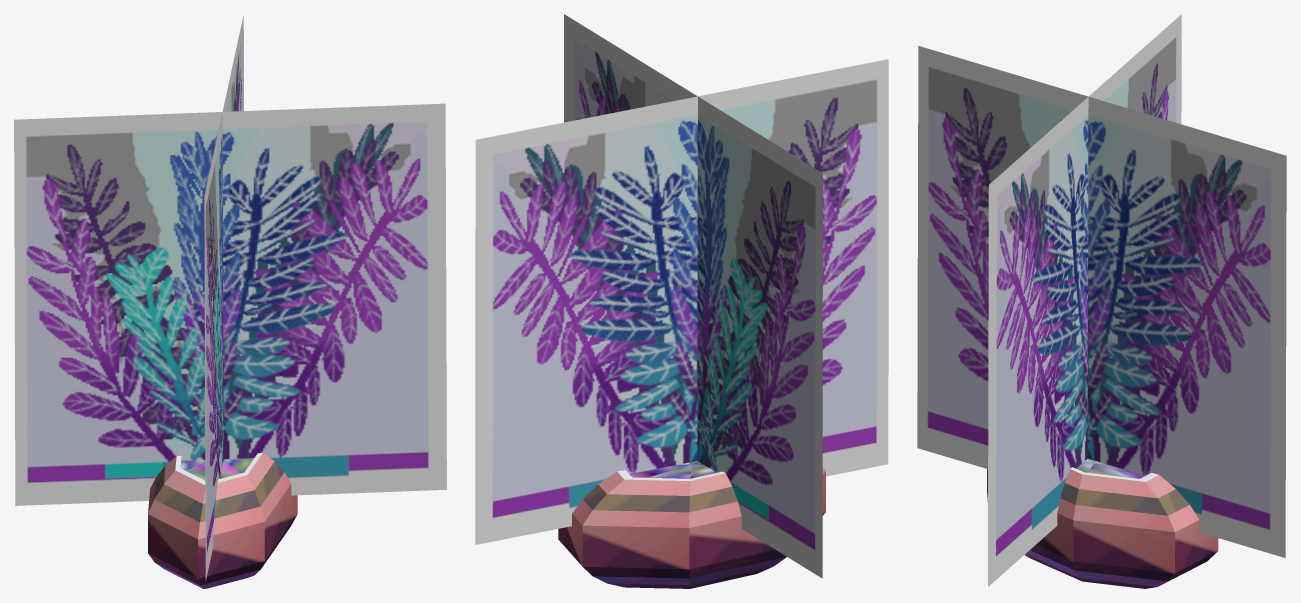
File: Structure_Vapor_Pot_04_Art.fbx
3 renders of one model, left to right at view 1: azimuth 30°, elevation 25°; view 2: azimuth 150°, elevation 25°; view 3: azimuth 270°, elevation 25°, orthographic. The views are drawn at different scales.
Visible parts, largest first — view 1: Structure_Vapor_Plants_04, Structure_Vapor_Plants_05, Structure_Vapor_Pot_04_Art; view 2: Structure_Vapor_Plants_04, Structure_Vapor_Plants_05, Structure_Vapor_Pot_04_Art; view 3: Structure_Vapor_Plants_04, Structure_Vapor_Plants_05, Structure_Vapor_Pot_04_Art.
Part boxes in pixels (x1,y1,x2,y2): Structure_Vapor_Plants_04: (14, 15, 446, 581); Structure_Vapor_Plants_05: (14, 16, 446, 563); Structure_Vapor_Pot_04_Art: (148, 453, 297, 588); Structure_Vapor_Plants_04: (475, 14, 888, 578); Structure_Vapor_Plants_05: (475, 16, 888, 572); Structure_Vapor_Pot_04_Art: (558, 461, 825, 588); Structure_Vapor_Plants_04: (917, 14, 1286, 586); Structure_Vapor_Plants_05: (918, 15, 1286, 584); Structure_Vapor_Pot_04_Art: (987, 456, 1218, 588).
Bounding box in the file's own units: 168 × 211 × 152.
